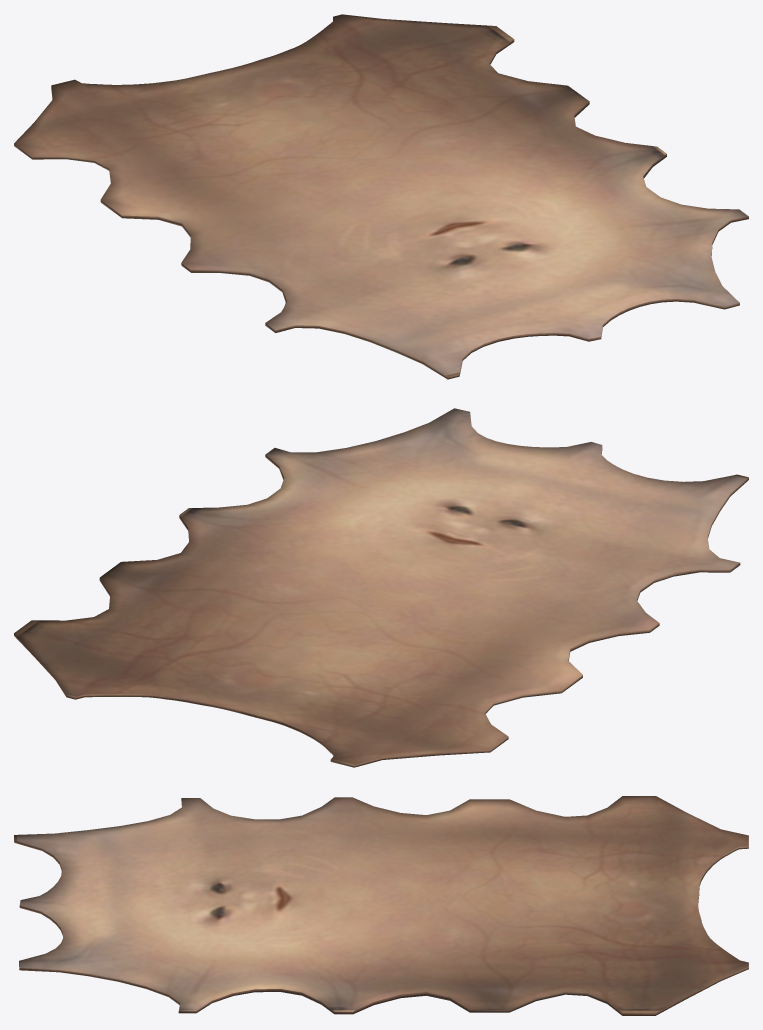
Rendered from Cassandra.obj.
3 views of the same model, one above another, from view 1: azimuth 30°, elevation 25°; view 2: azimuth 150°, elevation 25°; view 3: azimuth 270°, elevation 25° (orthographic). The views are drawn at different scales.
Visible parts, largest first — view 1: Cassandra_Cylinder; view 2: Cassandra_Cylinder; view 3: Cassandra_Cylinder.
Part boxes in pixels (x1=…): Cassandra_Cylinder: x1=14, y1=14, x2=748, y2=379; Cassandra_Cylinder: x1=14, y1=408, x2=748, y2=767; Cassandra_Cylinder: x1=14, y1=796, x2=748, y2=1015.
Size of the model in its own units: 9.31 by 0.1634 by 13.31.
